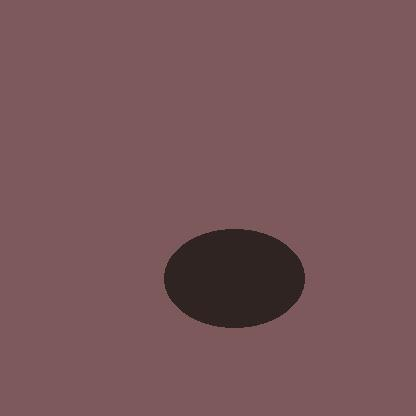pothole: (164, 229, 304, 327)
